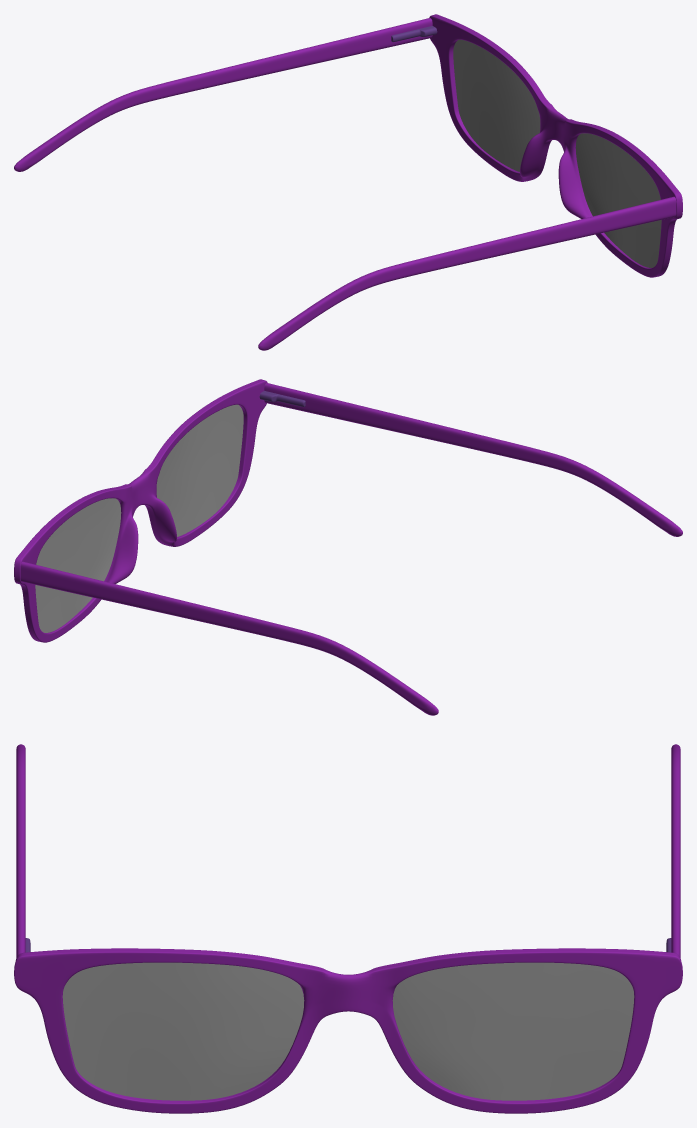
File: glasses_coloured.glb
The picture shows the model from 3 angles, top to bottom: view 1: azimuth 30°, elevation 25°; view 2: azimuth 150°, elevation 25°; view 3: azimuth 270°, elevation 25°; orthographic projection. The views are drawn at different scales.
Parts seen in each view (by area): view 1: Plane.003_4, Plane.004_5, Plane_2; view 2: Plane.003_4, Plane.004_5, Plane_2; view 3: Plane.004_5, Plane_2, Plane.003_4.
Part boxes in pixels (box(x1,y1,x2,y2)): Plane.003_4: box(14, 18, 676, 350); Plane.004_5: box(453, 39, 661, 267); Plane_2: box(429, 14, 682, 277); Plane.003_4: box(20, 383, 682, 715); Plane.004_5: box(35, 404, 243, 632); Plane_2: box(14, 379, 267, 642); Plane.004_5: box(62, 962, 634, 1100); Plane_2: box(14, 948, 682, 1113); Plane.003_4: box(16, 744, 680, 957).
Size of the model in its own units: 3.74 by 0.9964 by 3.75.
